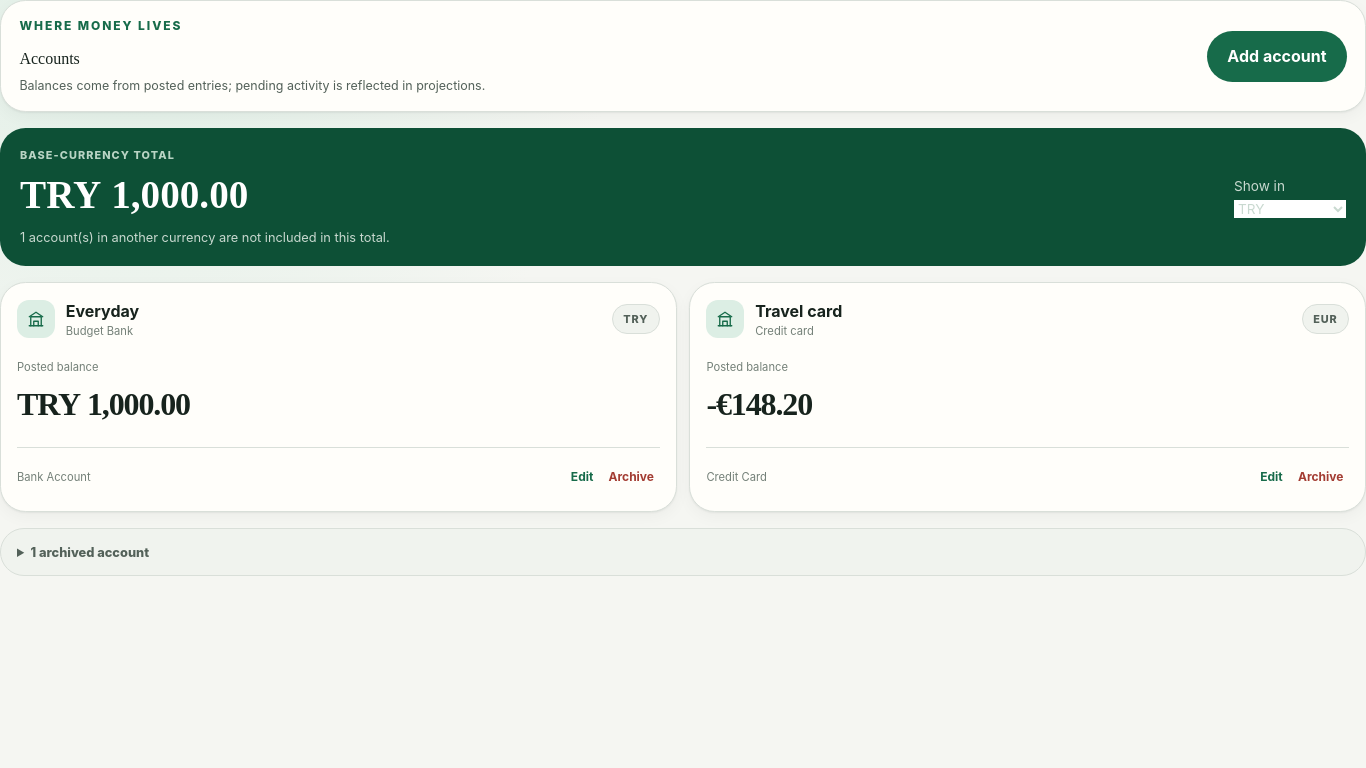
Test: AccountsPanel › confirms archival and preserves a clear historical-data warning
Click the button "Archive" in the row of "Bank account": {"x": 631, "y": 477} [603,459,660,495]
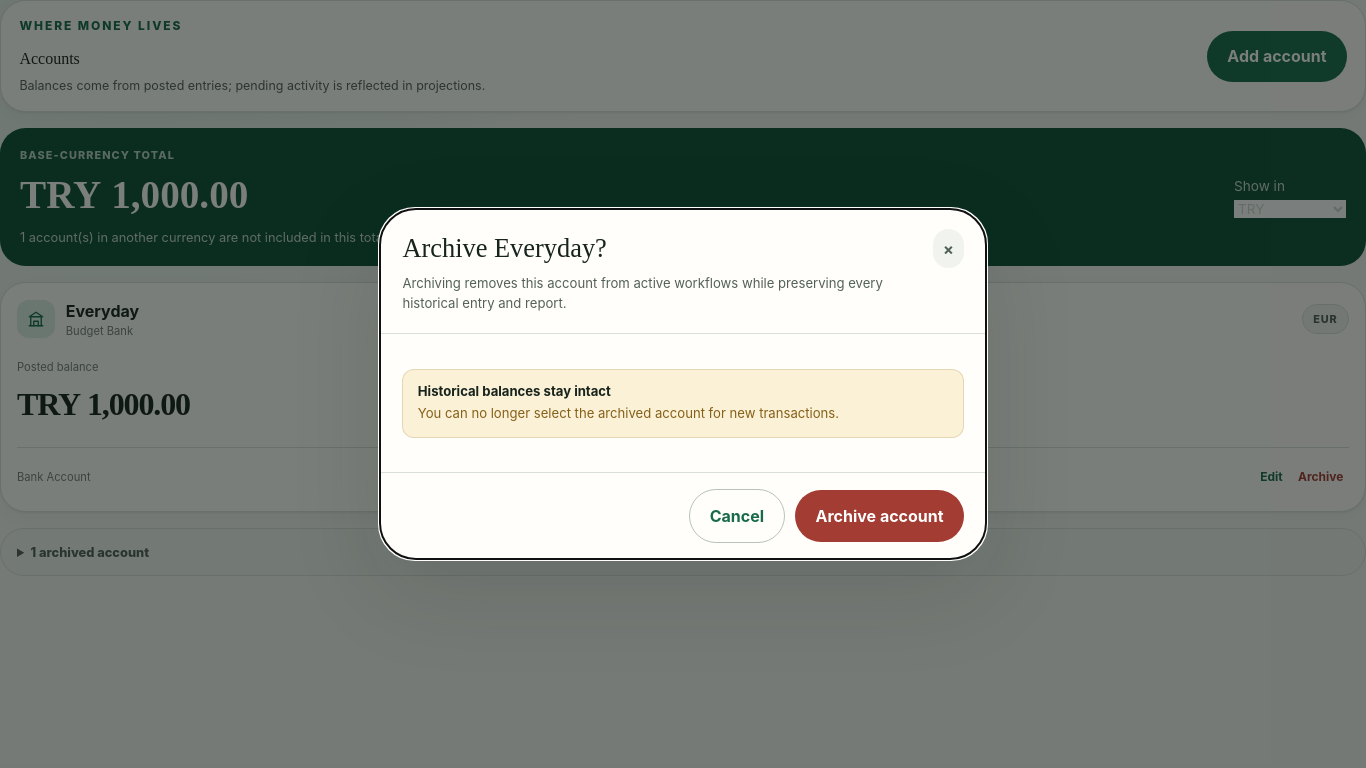
Expected: the dialog "Archive Everyday?" shows "preserving every historical entry and report", [402,275,883,310]
Click the button "Archive account": {"x": 880, "y": 516} [796,490,964,542]
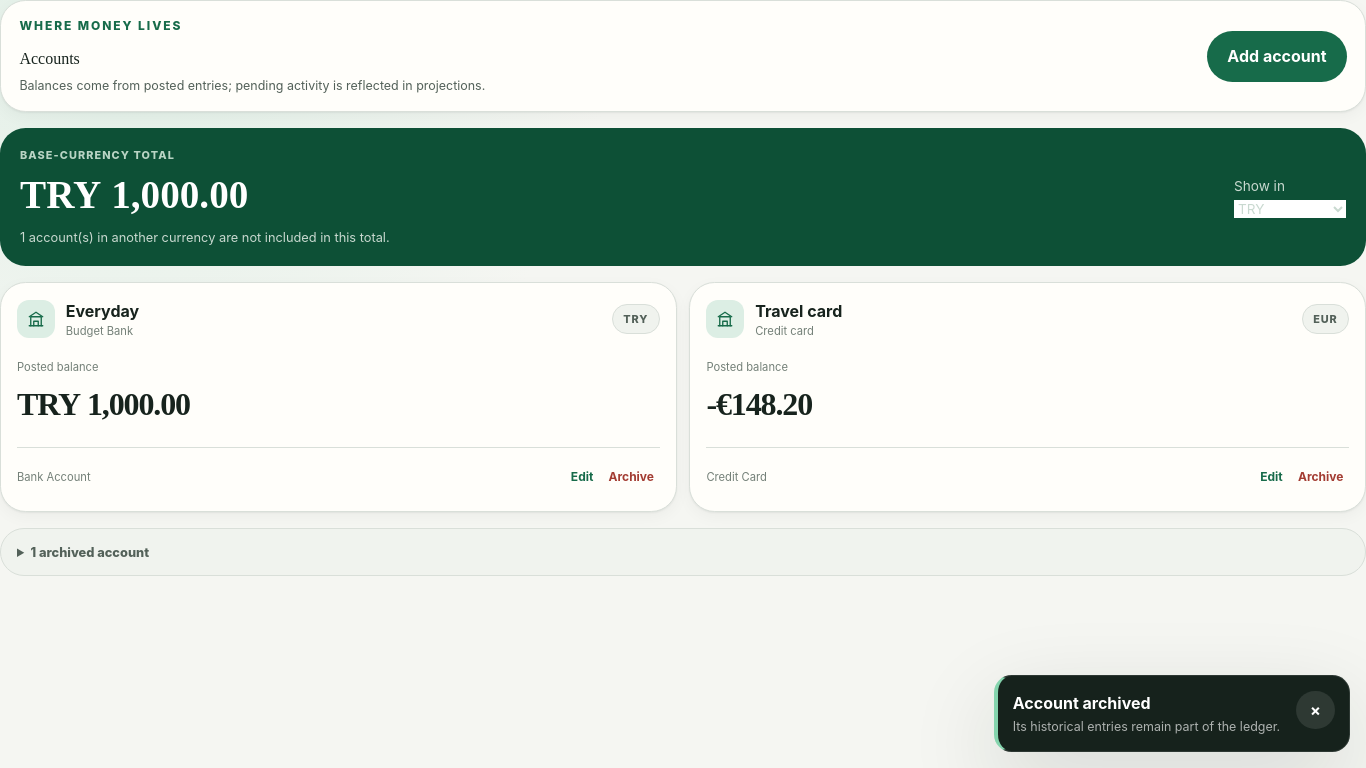
Expected: the text "Account archived" is shown, [1013,693,1150,713]
